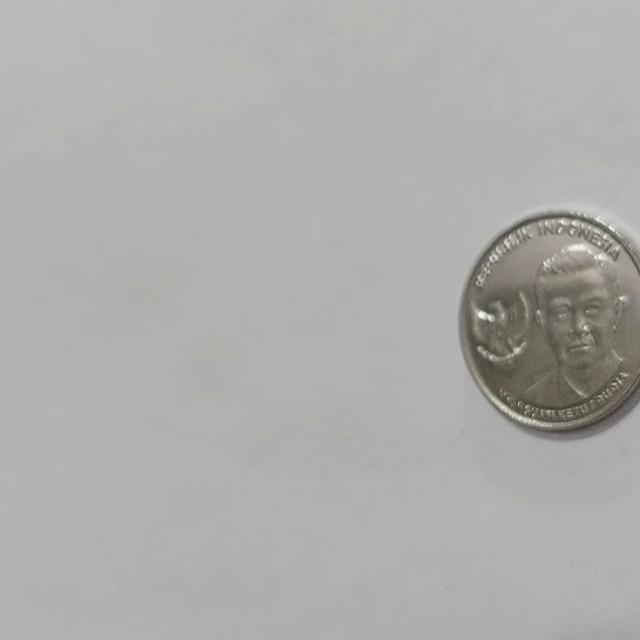Rp100: (457, 207, 640, 434)
